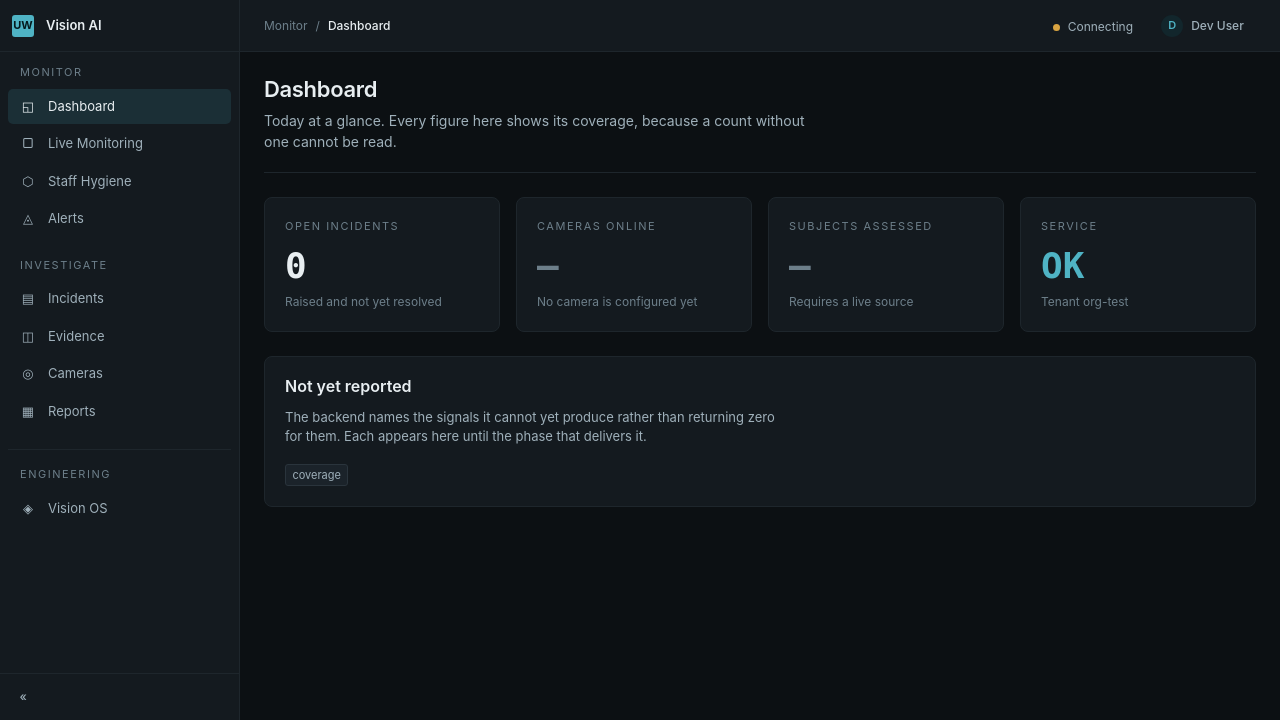
Test: the shell › collapses and restores the sidebar
Expected: the heading "Dashboard" is shown, x1=264 y1=76 x2=377 y2=102
Click the button named "collapse navigation": x=23, y=697 x1=8 y1=682 x2=38 y2=712
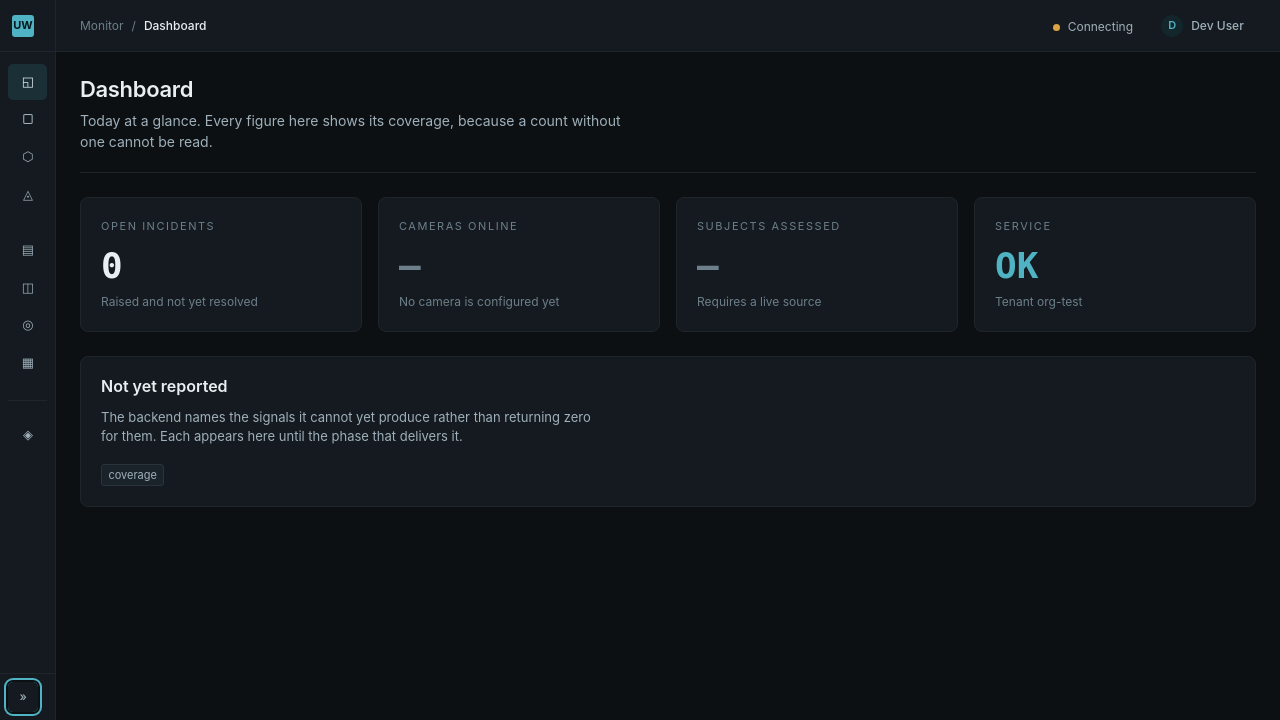
Expected: the button named "expand navigation" is shown, x1=8 y1=682 x2=38 y2=712
